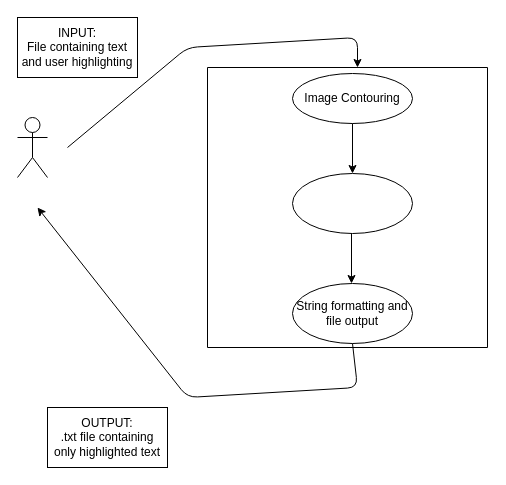
The diagram is 506 pixels wide and 485 high, and some of its shapes have lost their labels. Each missing label, with the box of its shape:
OCR: (292, 172, 412, 234)
User: (16, 116, 48, 178)
